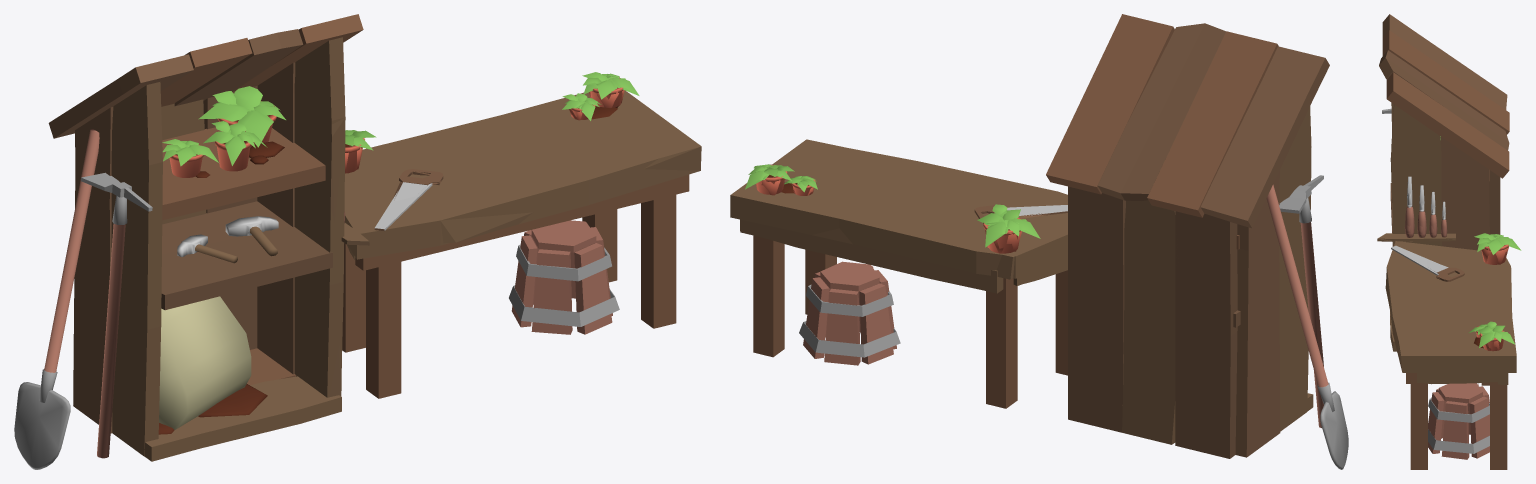
Rendered from ToolShed.gltf.
The picture shows the model from 3 angles, left to right: view 1: azimuth 30°, elevation 25°; view 2: azimuth 150°, elevation 25°; view 3: azimuth 270°, elevation 25°; orthographic projection. The views are drawn at different scales.
Visible parts, largest first — view 1: ToolShed_Detail_Mid, ToolShed_Destruction.001, ToolShed_Destruction.006, ToolShed_Destruction.007, ToolShed_Destruction.004; view 2: ToolShed_Detail_Mid, ToolShed_Destruction.001, ToolShed_Destruction.006; view 3: ToolShed_Detail_Mid, ToolShed_Destruction.001, ToolShed_Destruction.006.
Part boxes in pixels (x1,y1,x2,y2): ToolShed_Detail_Mid: (14,14,700,469); ToolShed_Destruction.001: (161,14,363,396); ToolShed_Destruction.006: (344,74,701,295); ToolShed_Destruction.007: (168,89,285,177); ToolShed_Destruction.004: (200,384,266,417); ToolShed_Detail_Mid: (730,14,1348,469); ToolShed_Destruction.001: (1078,14,1276,444); ToolShed_Destruction.006: (740,139,1067,328); ToolShed_Detail_Mid: (1377,14,1521,469); ToolShed_Destruction.001: (1378,30,1509,250); ToolShed_Destruction.006: (1385,234,1520,384).
Bounding box in the file's own units: 4.02 × 2.52 × 1.16.
